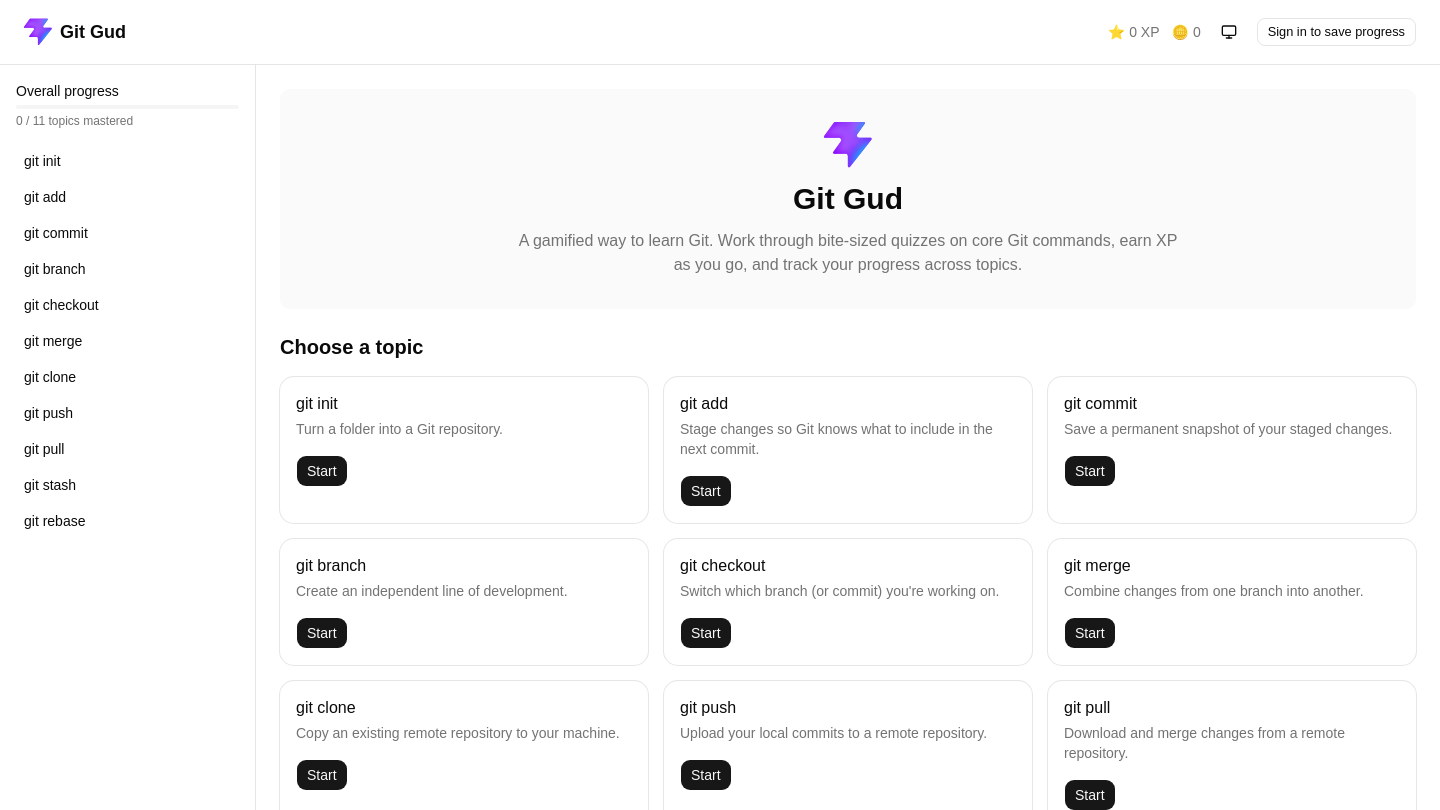
Test: App › shows the dashboard at / and navigates to a topic page on click
The width and height of the screenshot is (1440, 810).
Expected: the heading "Choose a topic" is shown, left=280, top=336, right=423, bottom=358
Click the button "Start" below "Turn a folder into a Git repository.".
click(322, 471)  # box left=296, top=455, right=348, bottom=487
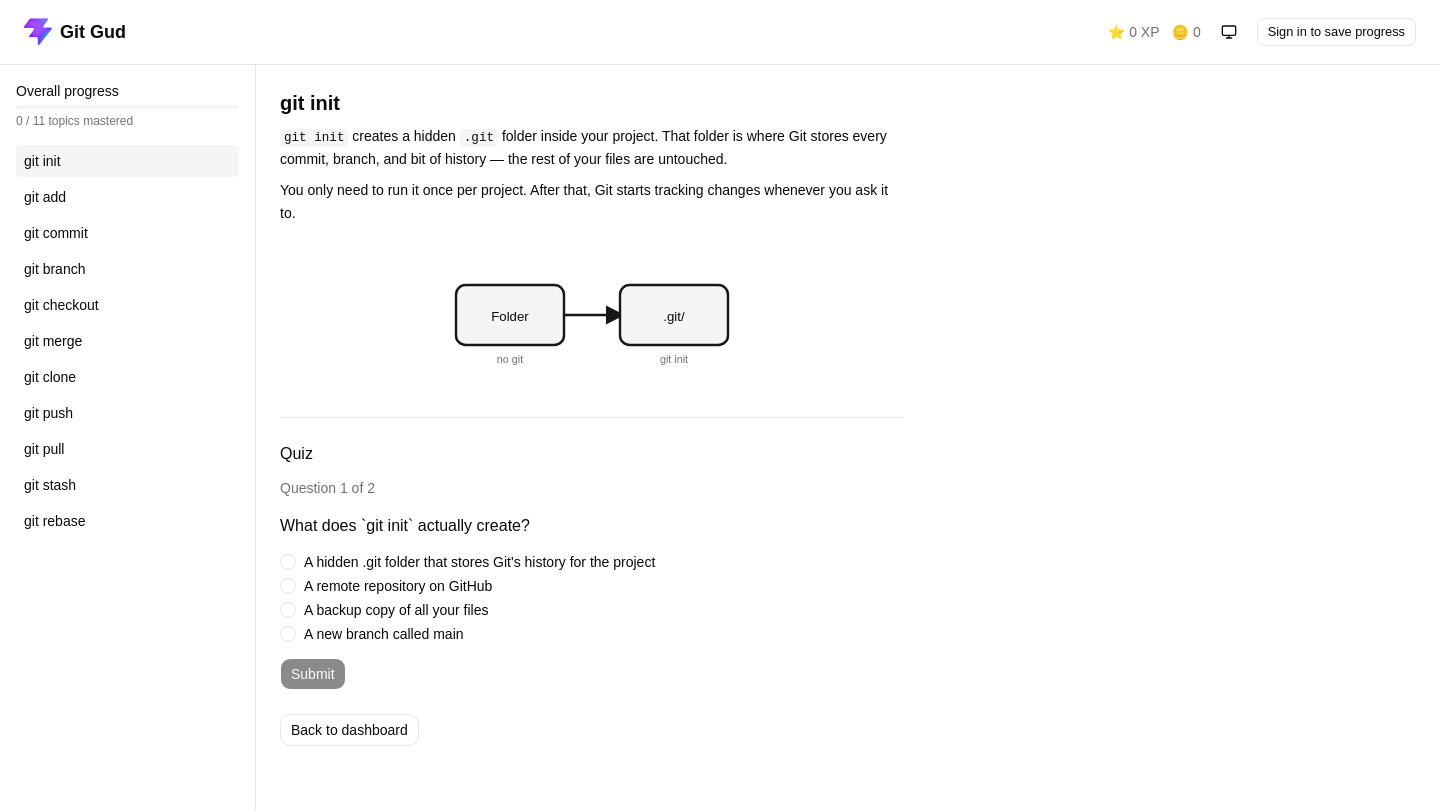
Expected: the heading "git init" is shown, left=280, top=92, right=340, bottom=114
